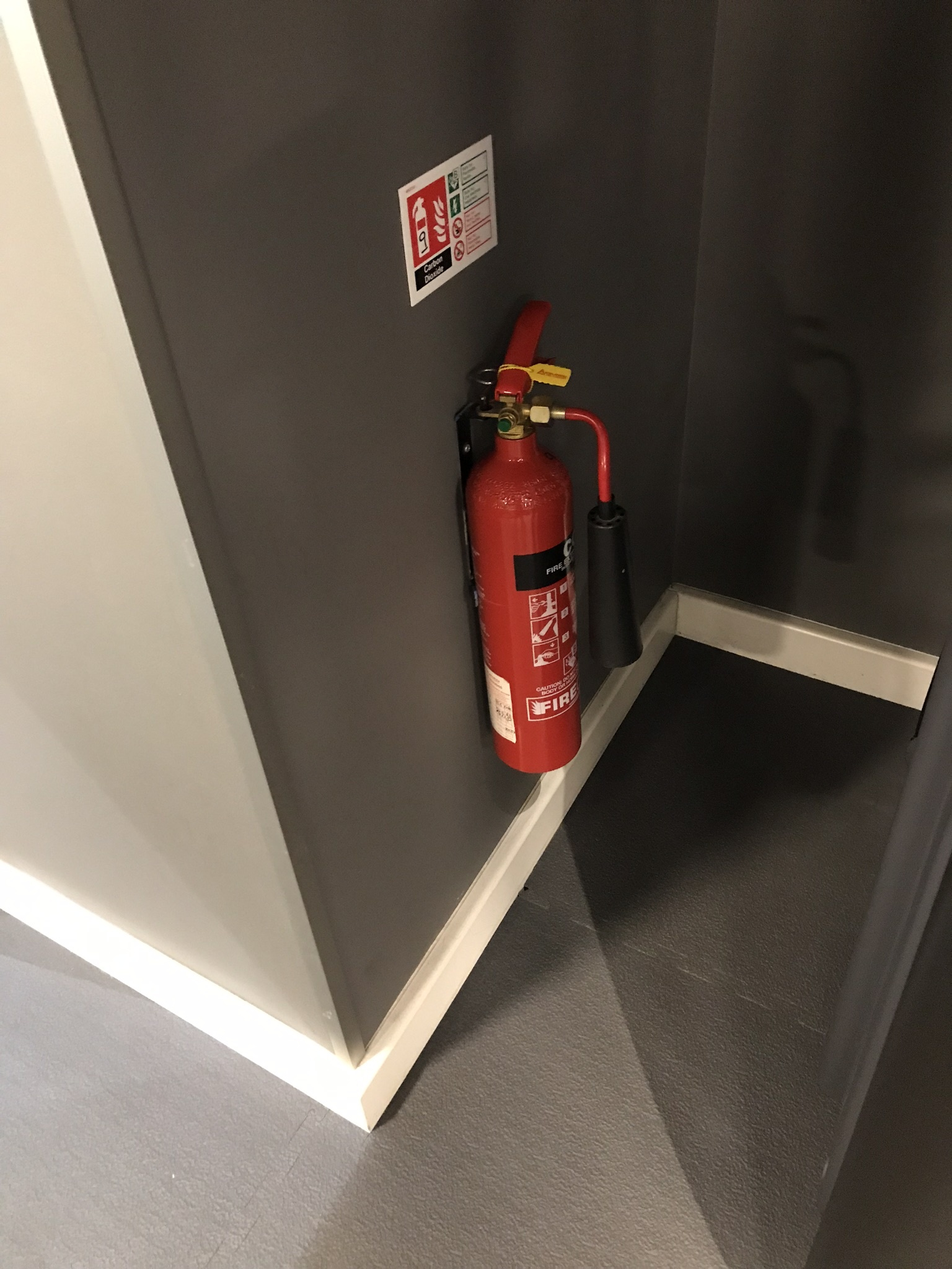fire_extinguisher: (453, 299, 643, 775)
